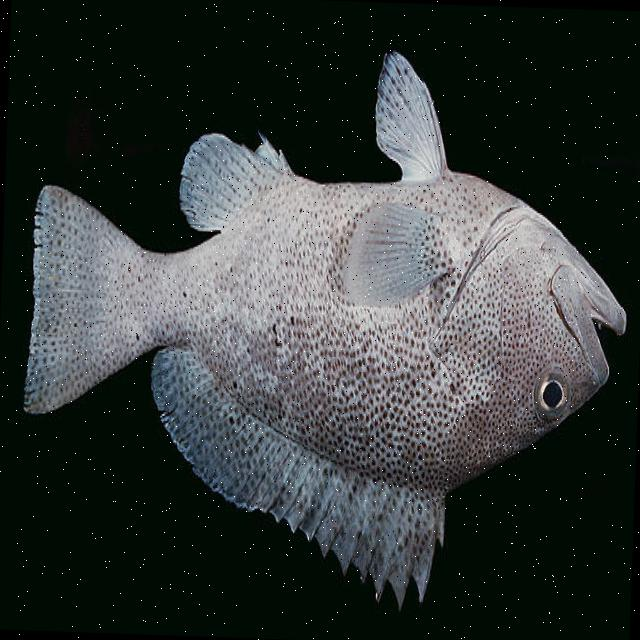ikan: (15, 37, 636, 621)
